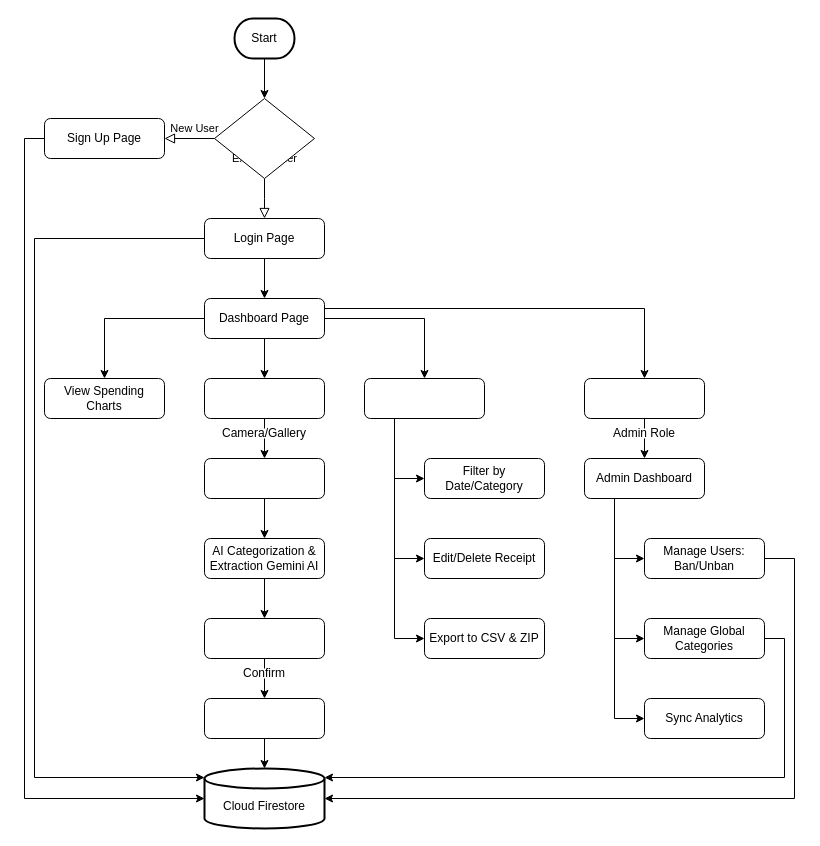
The diagram is 820 pixels wide and 846 high, and some of its shapes have lost their labels. Here are the shapes that lost their labels. From the top down, the centre of each, then its label:
the point at 264,138: User Auth
the point at 264,398: Scan Receipt Page
the point at 424,398: My Receipts Page
the point at 644,398: User Profile Page
the point at 264,478: Text Detection Google ML Kit
the point at 264,638: Review Receipt Page
the point at 264,718: Save to FirestoreService
